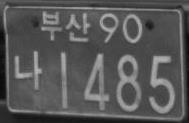0: (122, 13, 142, 44)
1: (51, 51, 78, 108)
4: (83, 52, 109, 110)
5: (148, 54, 175, 114)
8: (115, 53, 142, 112)
9: (98, 12, 119, 43)
나: (13, 50, 42, 90)
부산_O: (41, 10, 90, 43)
